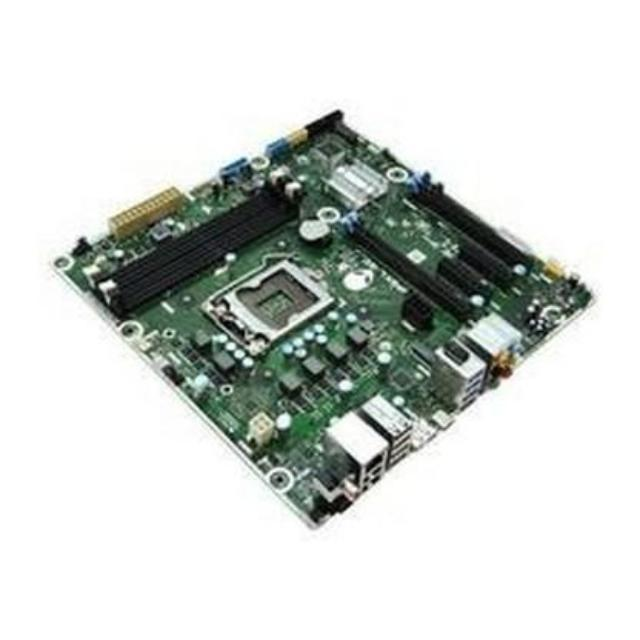Mainboard: (49, 91, 602, 531)
